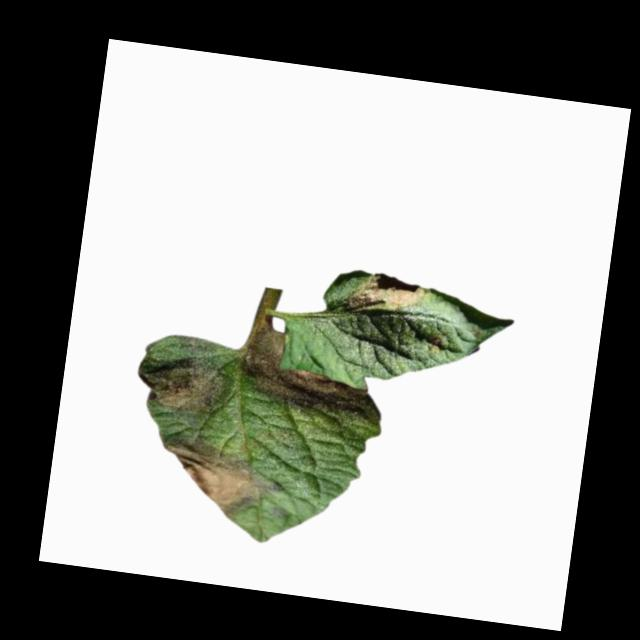Late_blight: (237, 323, 392, 427), (152, 432, 284, 525), (145, 349, 233, 421), (342, 268, 428, 325)
